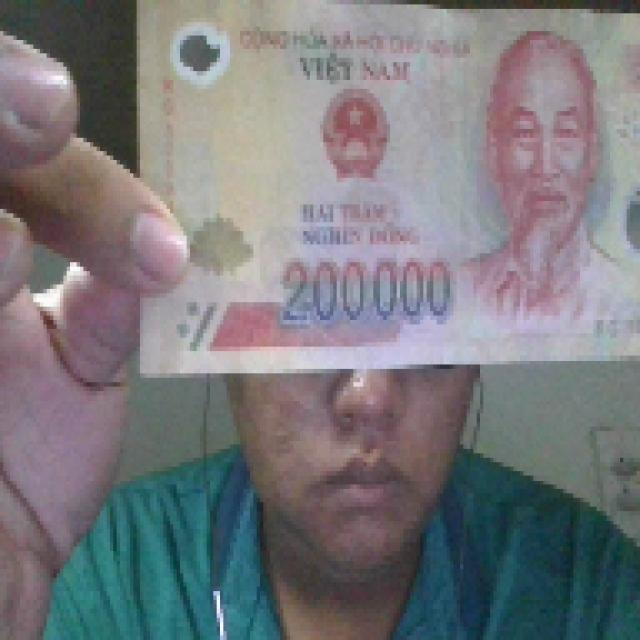200 000 VND: (130, 0, 637, 378)
